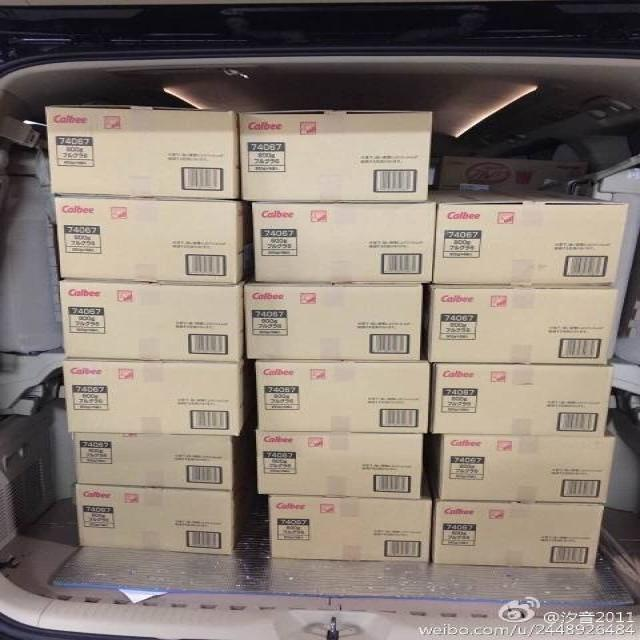box: (429, 188, 629, 286), (45, 104, 239, 199), (236, 110, 432, 203), (54, 196, 244, 285), (427, 284, 619, 365), (59, 279, 244, 362), (252, 202, 437, 284), (63, 357, 244, 435), (244, 283, 422, 360), (431, 364, 615, 438), (256, 360, 431, 433), (440, 430, 615, 503), (432, 500, 604, 569), (76, 483, 236, 555), (256, 431, 423, 499), (269, 495, 433, 562), (73, 433, 232, 491), (434, 155, 587, 188)
